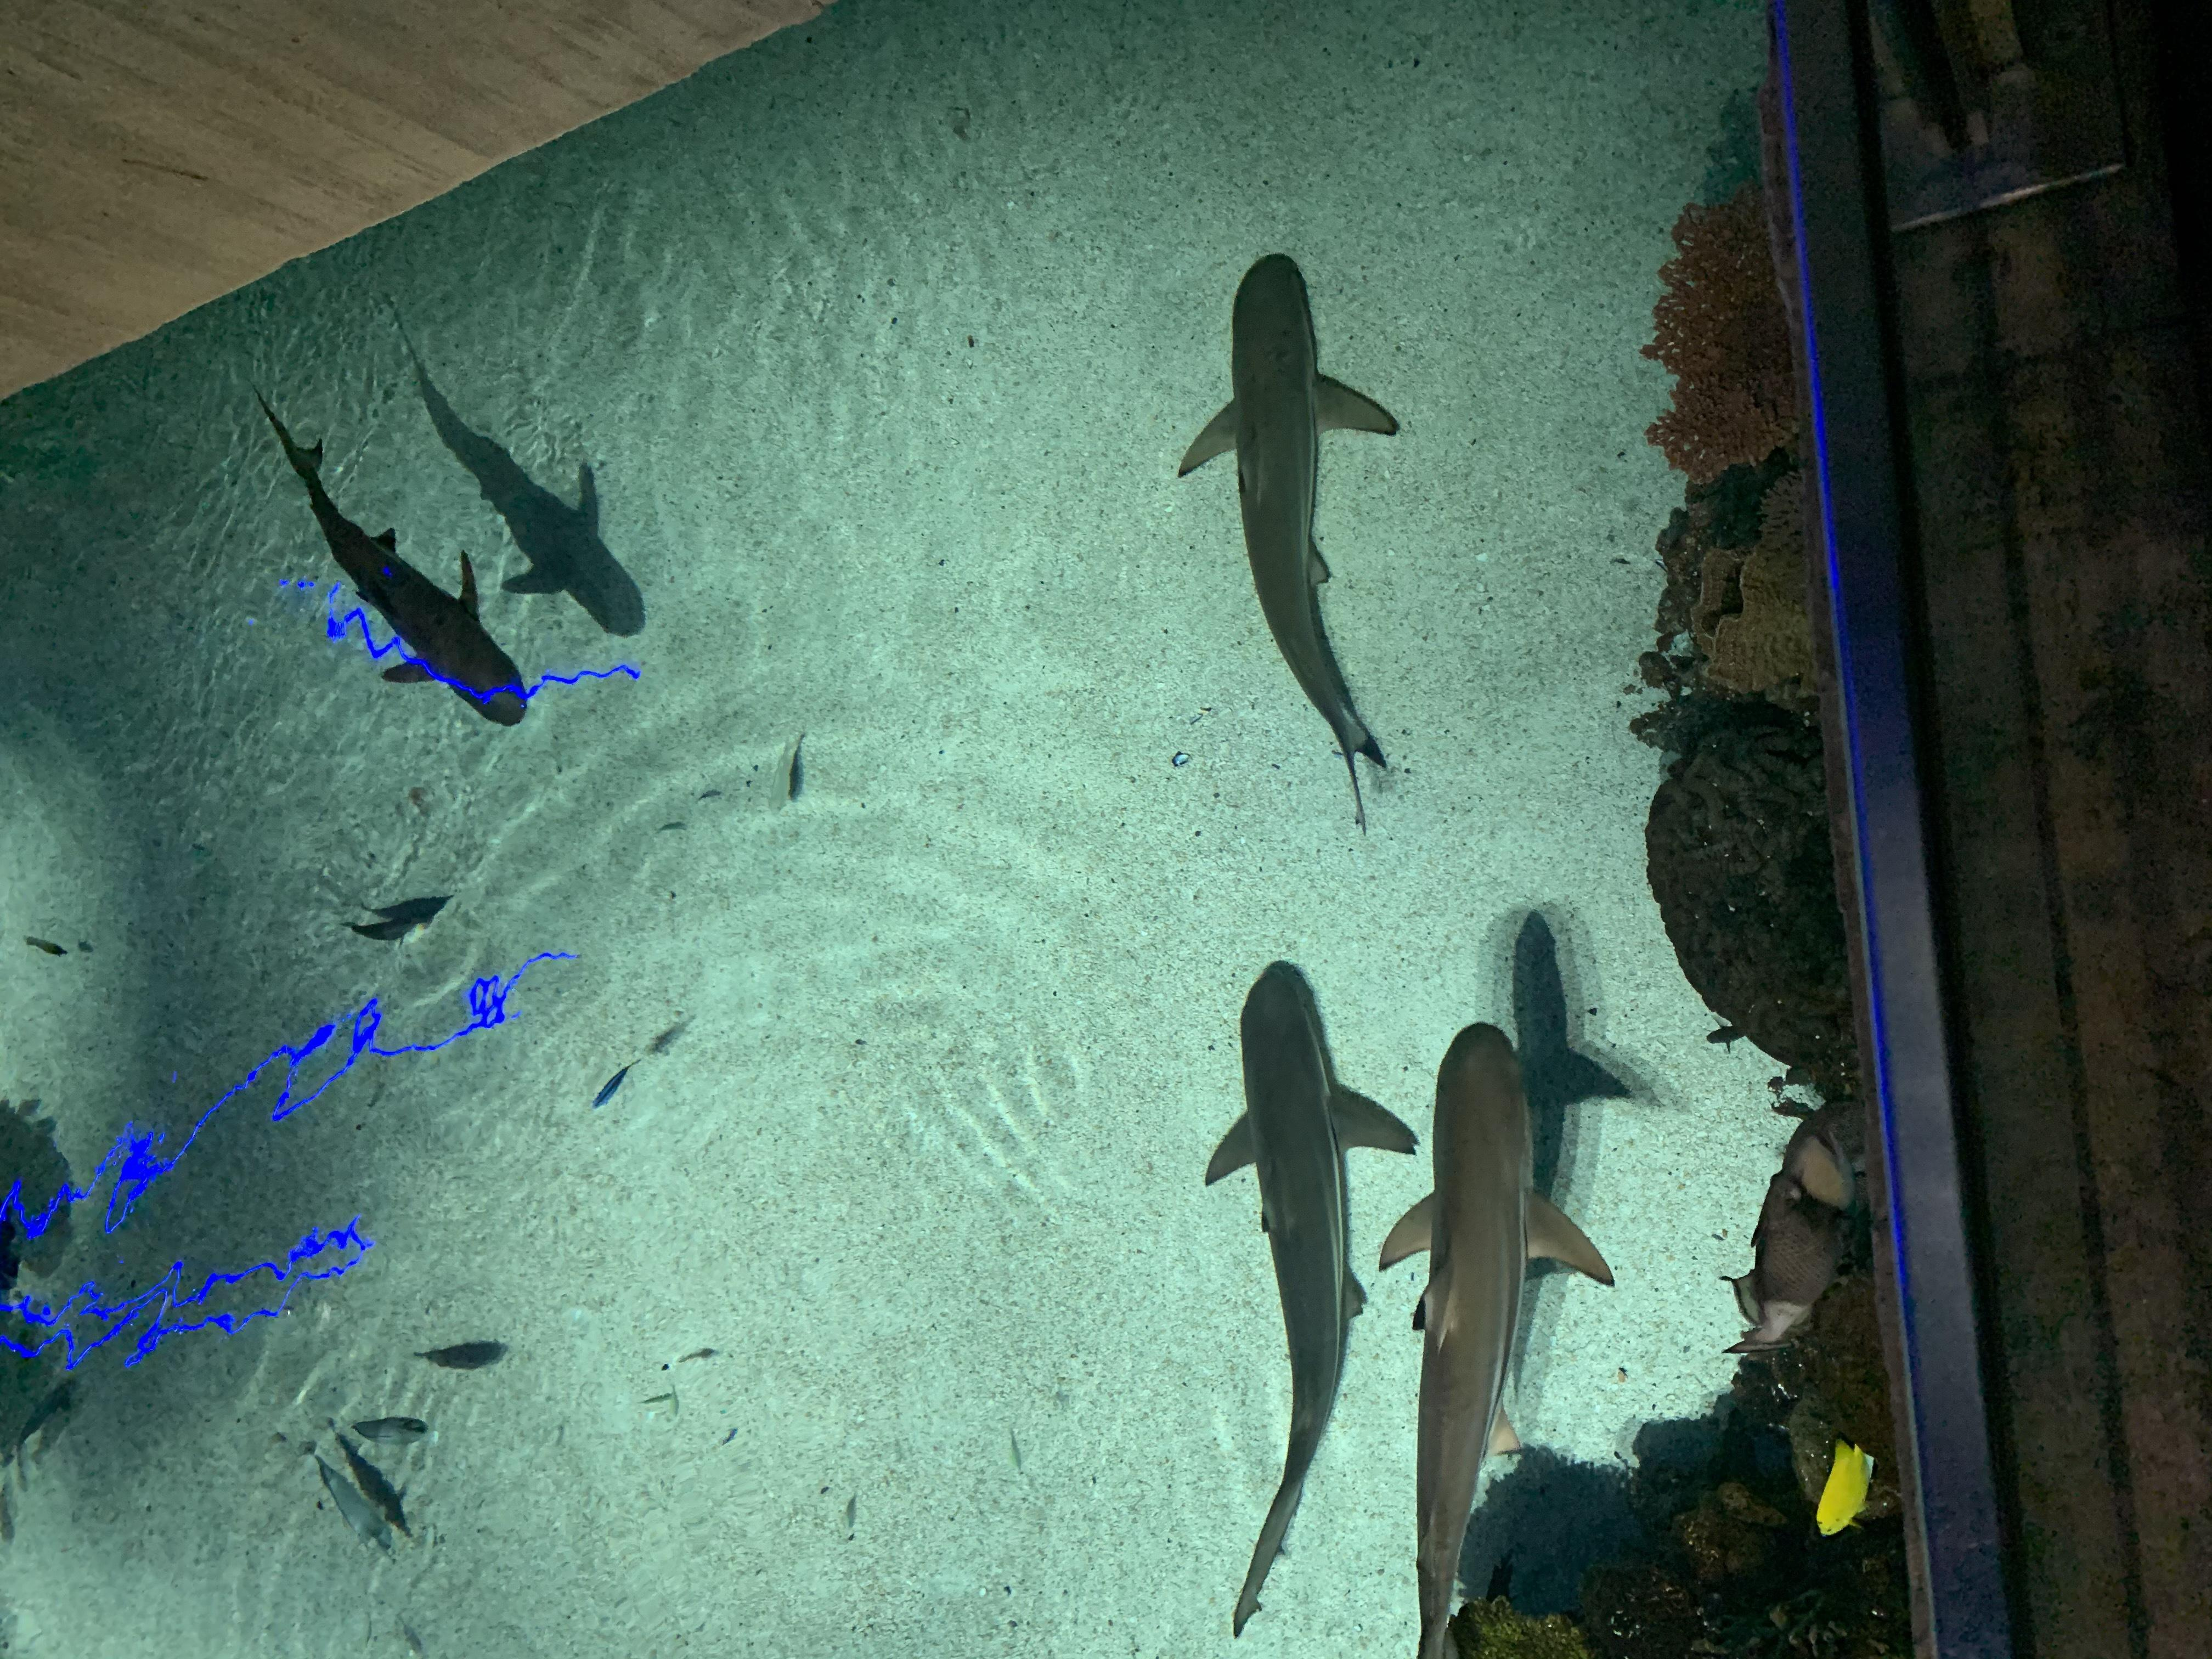fish: (286, 1434, 401, 1568), (1803, 1432, 1881, 1539), (773, 716, 841, 835), (341, 904, 444, 960), (331, 1394, 437, 1446), (583, 1058, 646, 1121)
shark: (1374, 1026, 1627, 1654), (1197, 938, 1420, 1645), (1172, 251, 1402, 803), (249, 387, 529, 728)
